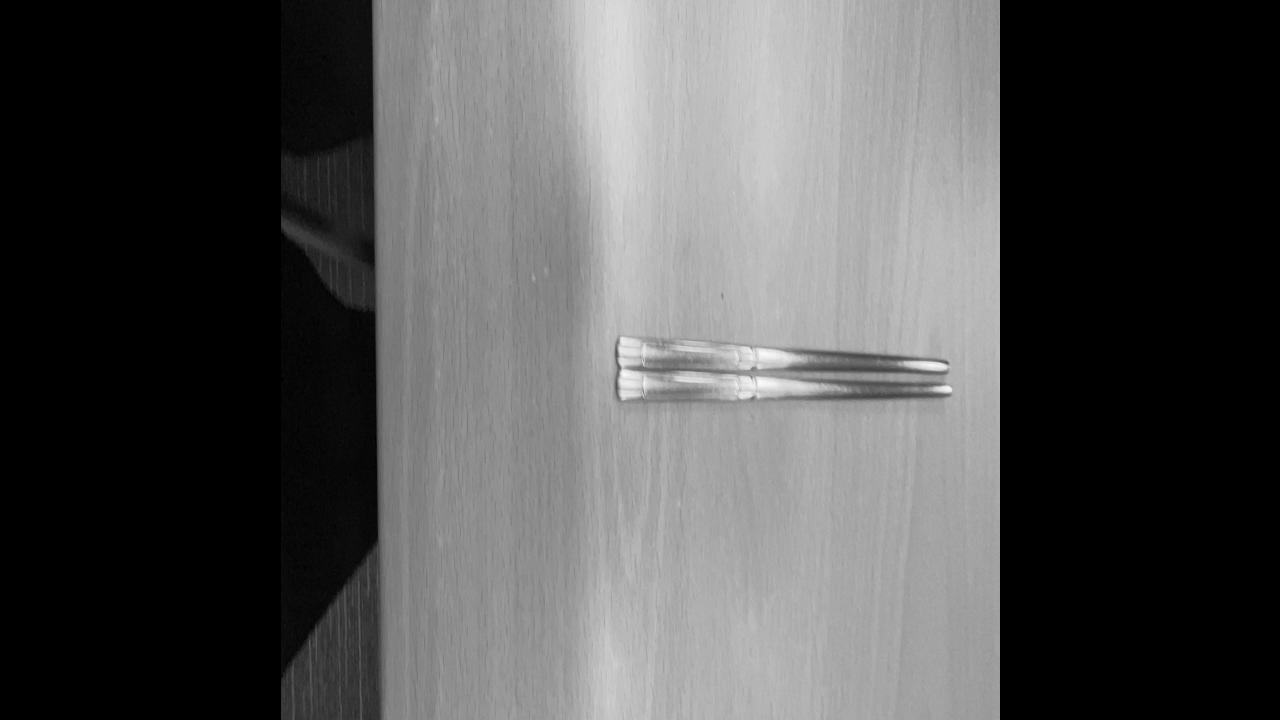chopstick: (609, 327, 953, 414)
